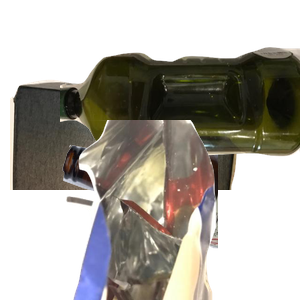cardboard: (10, 77, 245, 257)
glass: (60, 142, 300, 300)
plastic: (60, 44, 300, 195)
trash: (63, 120, 300, 300)
